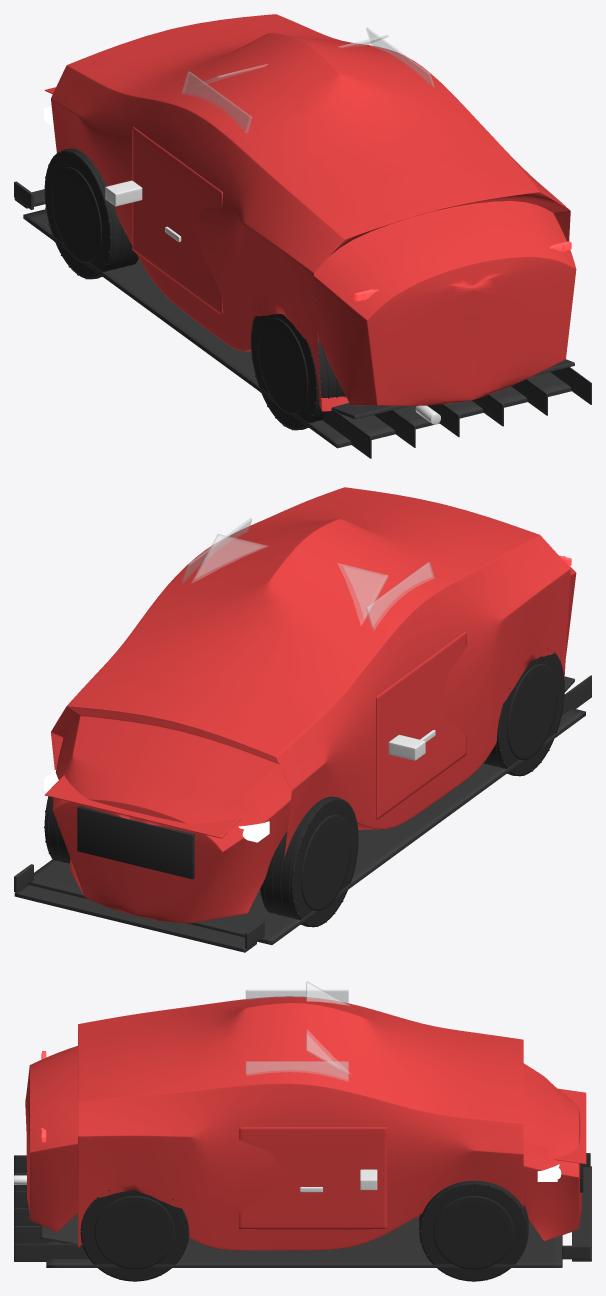
File: vehicle.opt.glb
3 renders of one model, top to bottom at view 1: azimuth 30°, elevation 25°; view 2: azimuth 150°, elevation 25°; view 3: azimuth 270°, elevation 25°, orthographic. The views are drawn at different scales.
Visible parts, largest first — view 1: BODY_MainShell, UNDERBODY_FlatFloor, BODY_Door_FL, WHEEL_FL_Tire, WHEEL_RL_Tire, GLASS_Greenhouse, JEWELRY_Hardware; view 2: BODY_MainShell, BODY_Door_FL, UNDERBODY_FlatFloor, WHEEL_FL_Tire, WHEEL_RL_Tire, JEWELRY_Wrangler_SevenSlotGrille, GLASS_Greenhouse, AERO_FrontSplitter, BODY_Hood, WHEEL_FR_Tire, JEWELRY_Hardware, LIGHTING_Headlamps; view 3: BODY_MainShell, BODY_Door_FR, UNDERBODY_FlatFloor, WHEEL_FR_Tire, WHEEL_RR_Tire, GLASS_Greenhouse, AERO_FrontSplitter, BODY_Hood, JEWELRY_Hardware.
Boxes of the visible parts, <box> form: BODY_MainShell: <box>51,14,576,411</box>; UNDERBODY_FlatFloor: <box>23,209,591,458</box>; BODY_Door_FL: <box>132,126,222,315</box>; WHEEL_FL_Tire: <box>44,148,138,279</box>; WHEEL_RL_Tire: <box>250,307,345,430</box>; GLASS_Greenhouse: <box>181,27,434,132</box>; JEWELRY_Hardware: <box>105,180,181,242</box>; BODY_MainShell: <box>51,487,576,923</box>; BODY_Door_FL: <box>376,631,466,820</box>; UNDERBODY_FlatFloor: <box>28,675,591,944</box>; WHEEL_FL_Tire: <box>260,796,358,927</box>; WHEEL_RL_Tire: <box>483,648,565,776</box>; JEWELRY_Wrangler_SevenSlotGrille: <box>77,806,194,879</box>; GLASS_Greenhouse: <box>181,518,434,629</box>; AERO_FrontSplitter: <box>14,864,264,952</box>; BODY_Hood: <box>45,775,241,838</box>; WHEEL_FR_Tire: <box>44,796,70,863</box>; JEWELRY_Hardware: <box>388,730,435,760</box>; LIGHTING_Headlamps: <box>44,769,269,842</box>; BODY_MainShell: <box>25,996,581,1250</box>; BODY_Door_FR: <box>239,1127,386,1229</box>; UNDERBODY_FlatFloor: <box>14,1155,562,1267</box>; WHEEL_FR_Tire: <box>419,1180,528,1281</box>; WHEEL_RR_Tire: <box>80,1186,189,1281</box>; GLASS_Greenhouse: <box>245,981,350,1081</box>; AERO_FrontSplitter: <box>562,1153,591,1261</box>; BODY_Hood: <box>554,1088,586,1164</box>; JEWELRY_Hardware: <box>300,1169,377,1192</box>.
Size of what is drawn, in the model's own units: 2.06 by 1.77 by 4.04.
